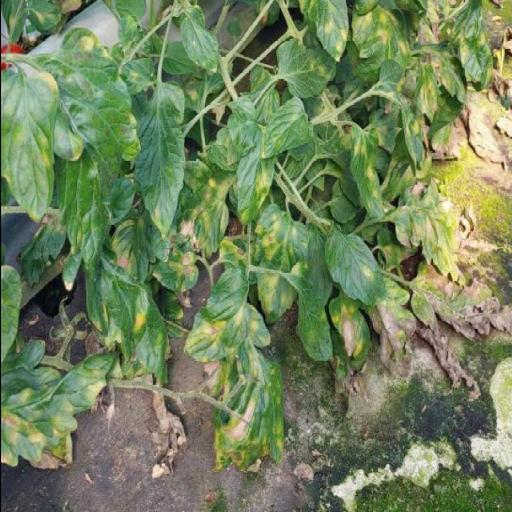disease_tomato: (38, 28, 140, 282), (0, 340, 122, 468), (84, 234, 170, 388), (210, 302, 284, 474), (0, 70, 59, 224), (254, 205, 308, 325), (182, 268, 250, 363), (323, 222, 385, 308), (234, 121, 274, 226), (274, 38, 335, 98), (349, 124, 384, 220), (260, 97, 312, 160)
